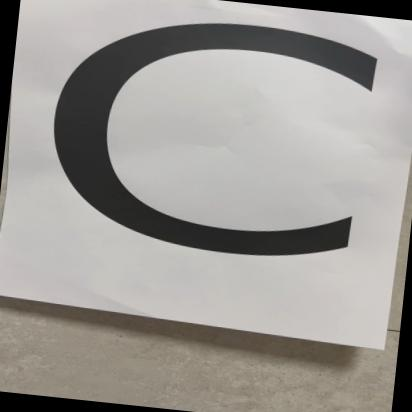seat: (7, 0, 412, 347)
